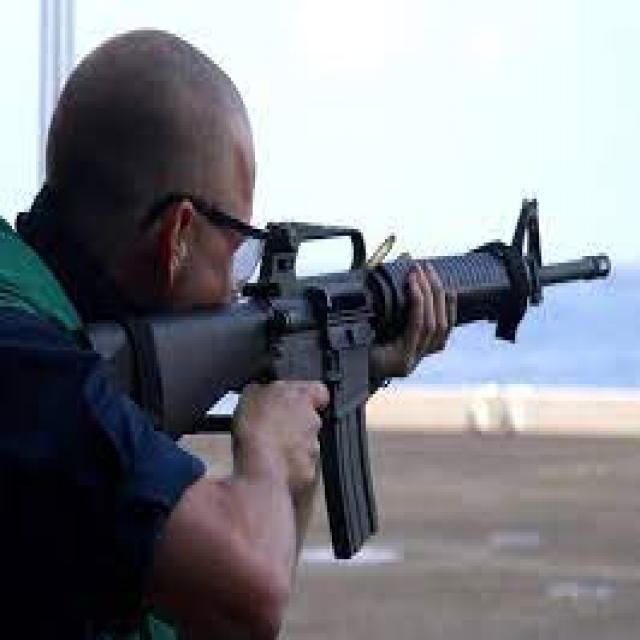m16: (128, 145, 616, 564)
